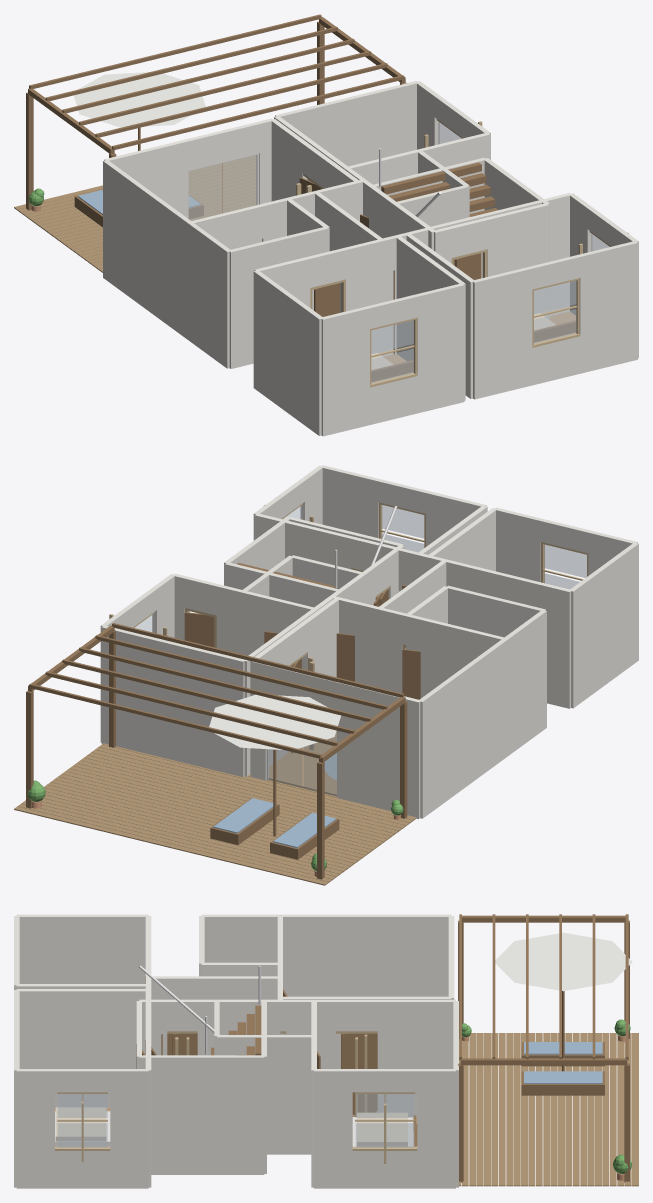
The model's file is house_v3_noceil.glb.
3 views of the same model, one above another, from view 1: azimuth 30°, elevation 25°; view 2: azimuth 150°, elevation 25°; view 3: azimuth 270°, elevation 25° (orthographic).
Visible parts, largest first — view 1: Wall_living_left, Wall_bedroom2_left, Wall_master_bedroom_back, Wall_bedroom3_front_L, Wall_bedroom3_front_R, Wall_bedroom2_front_L, Wall_bedroom2_front_R, Wall_bathroom2_left, Wall_bathroom2_front, UmbrellaCanopy, Wall_stairs_front_R, Wall_bedroom2_back_R (+51 smaller); view 2: Wall_master_bedroom_back, Wall_living_left, Wall_bedroom2_left, Wall_living_back_L, Wall_bathroom2_left, Wall_living_front_R, UmbrellaCanopy, Wall_master_bedroom_front_L, Wall_bedroom2_back_L, Wall_bedroom3_front_R, Wall_bathroom2_front, Wall_bedroom2_front_R (+82 smaller); view 3: Wall_stairs_right, Wall_living_left, Wall_bedroom3_left, Wall_bedroom2_left, Wall_master_bedroom_left_R, Wall_master_bath_right, UmbrellaCanopy, Wall_master_bedroom_right_R, Wall_master_bedroom_right_L, Wall_bedroom3_right_L, Wall_bedroom3_right_R, Wall_bathroom2_left (+72 smaller).
Part boxes in pixels (x1,y1,x2,y2): Wall_living_left: (103,160,190,339); Wall_bedroom2_left: (253,271,322,435); Wall_master_bedroom_back: (275,81,418,166); Wall_bedroom3_front_L: (472,266,532,399); Wall_bedroom3_front_R: (578,241,637,373); Wall_bedroom2_front_L: (320,306,369,436); Wall_bedroom2_front_R: (415,283,464,413); Wall_bathroom2_left: (188,222,231,368); Wall_bathroom2_front: (228,226,328,368); UmbrellaCanopy: (73,72,205,127); Wall_stairs_front_R: (485,203,548,319); Wall_bedroom2_back_R: (344,235,397,356); Wall_master_bedroom_back: (101,625,245,776); Wall_living_left: (419,639,507,818); Wall_bedroom2_left: (569,542,638,708); Wall_living_back_L: (337,682,421,819); Wall_bathroom2_left: (504,610,546,755); Wall_living_front_R: (338,597,404,693); UmbrellaCanopy: (209,694,341,749); Wall_master_bedroom_front_L: (216,584,315,655); Wall_bedroom2_back_L: (516,577,571,708); Wall_bedroom3_front_R: (320,465,380,538); Wall_bathroom2_front: (446,585,545,637); Wall_bedroom2_front_R: (494,507,542,582); Wall_stairs_right: (139,1055,264,1174); Wall_living_left: (280,914,451,996); Wall_bedroom3_left: (16,989,145,1107); Wall_bedroom2_left: (16,914,148,983); Wall_master_bedroom_left_R: (377,999,455,1118); Wall_master_bath_right: (217,1035,313,1154); UmbrellaCanopy: (495,932,632,991); Wall_master_bedroom_right_R: (417,1069,455,1188); Wall_master_bedroom_right_L: (314,1069,352,1188); Wall_bedroom3_right_L: (16,1069,54,1188); Wall_bedroom3_right_R: (110,1069,148,1188); Wall_bathroom2_left: (201,914,280,962).
Bounding box in the file's own units: 8.67 × 3.72 × 13.51.
